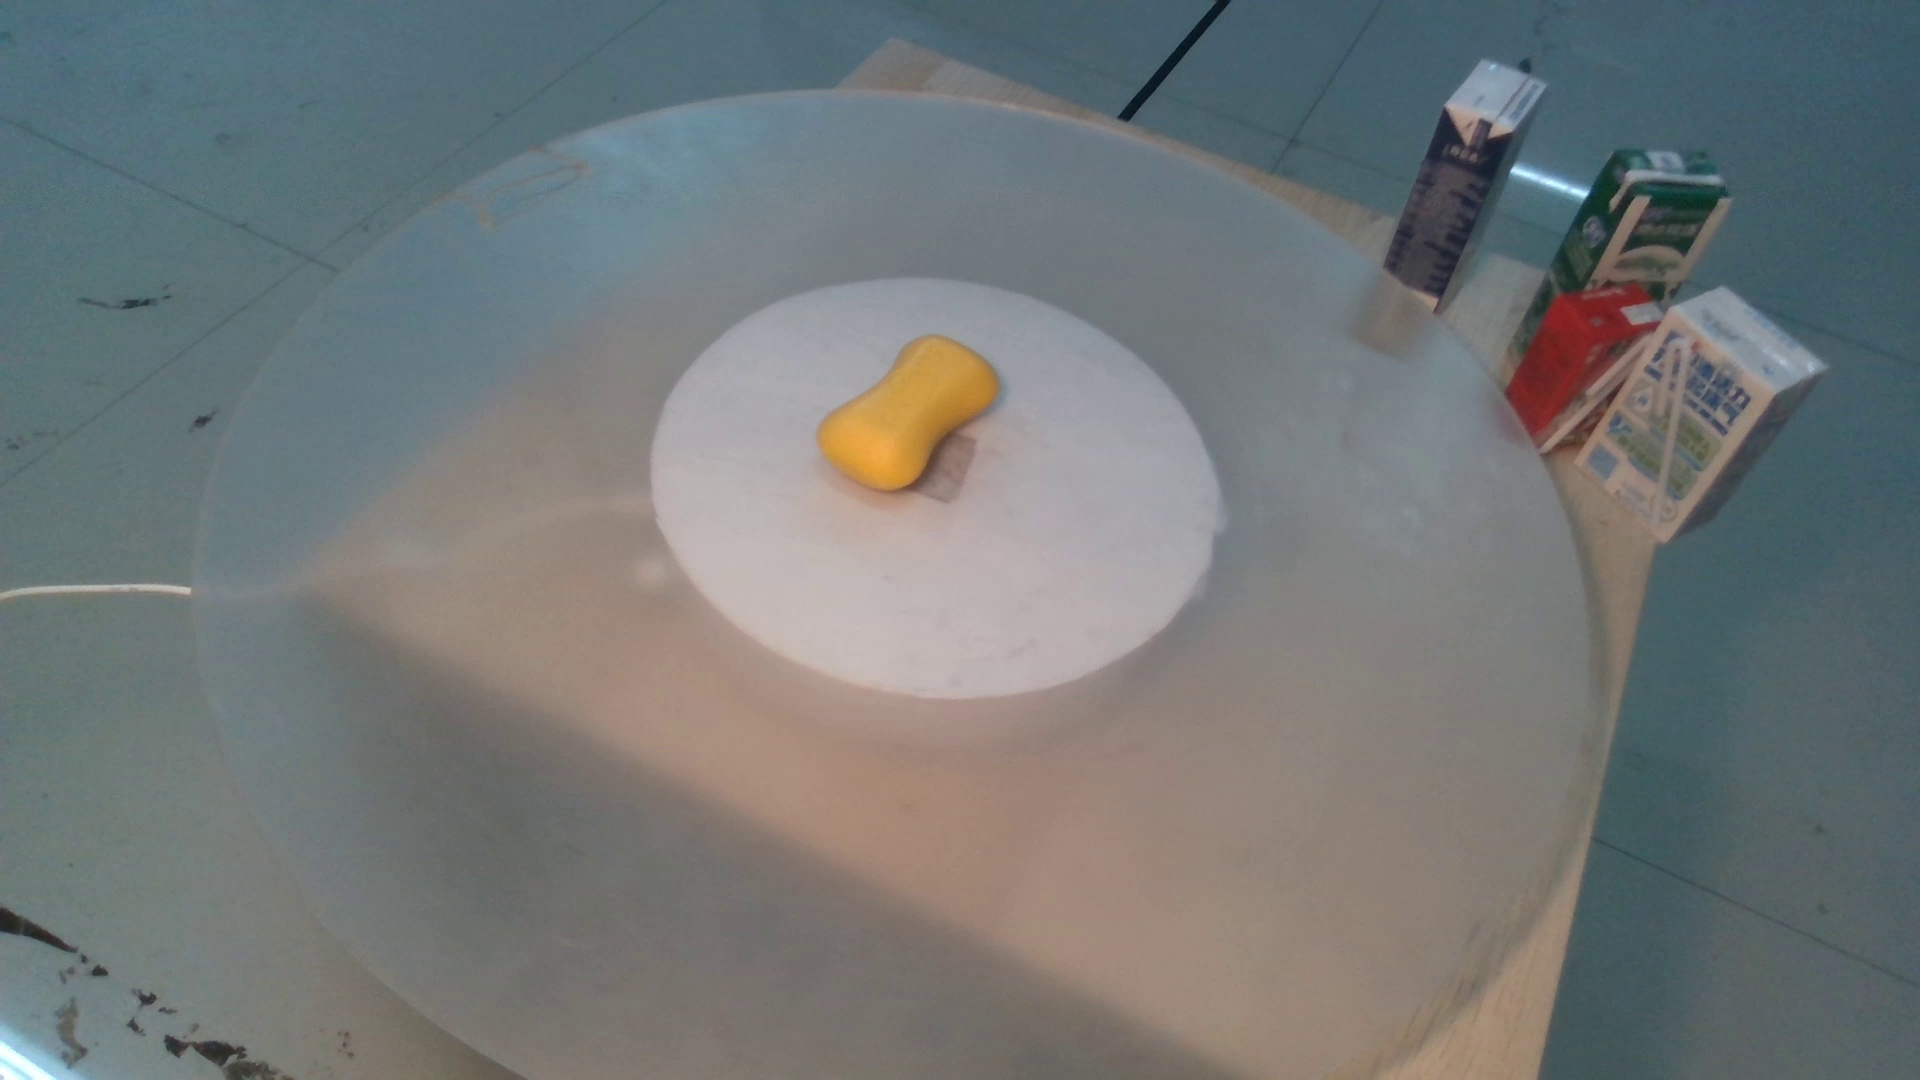CA003_1: (798, 314, 1033, 508)
